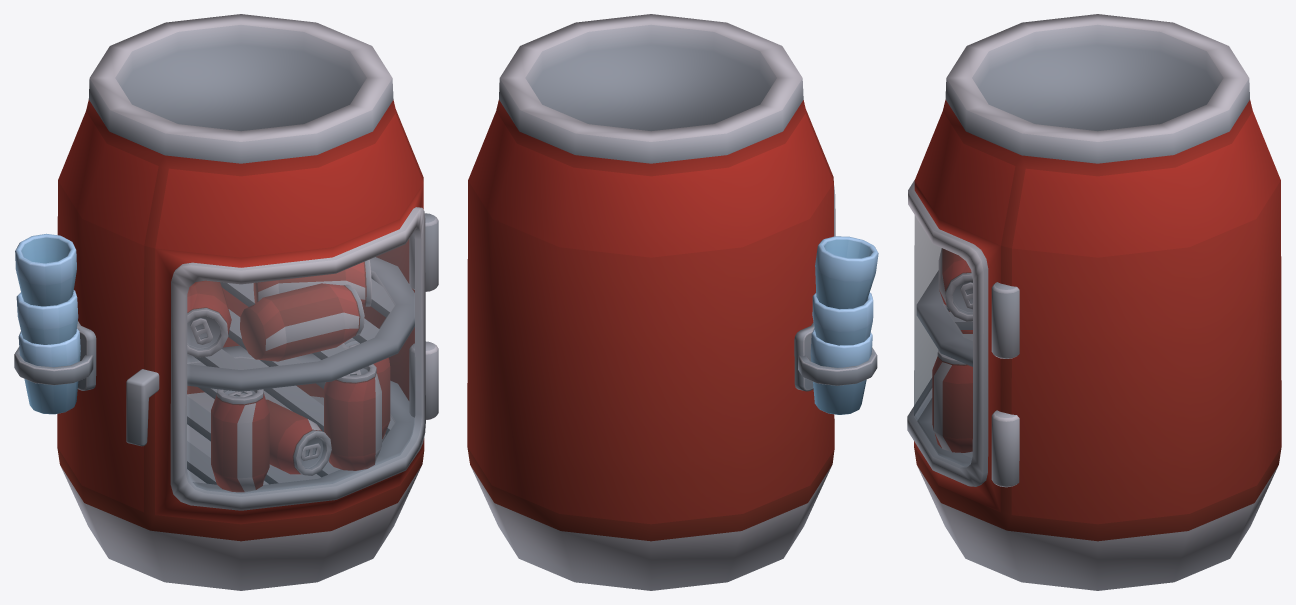
The model's file is mct_build_full_stand_cola.fbx.
The picture shows the model from 3 angles, left to right: view 1: azimuth 30°, elevation 25°; view 2: azimuth 150°, elevation 25°; view 3: azimuth 270°, elevation 25°; orthographic projection.
Visible parts, largest first — view 1: stand_cola; view 2: stand_cola; view 3: stand_cola.
Boxes of the visible parts, x1=… form: stand_cola: x1=14, y1=14, x2=438, y2=590; stand_cola: x1=467, y1=14, x2=878, y2=590; stand_cola: x1=907, y1=14, x2=1281, y2=590.
Bounding box in the file's own units: 189 × 212 × 160.
